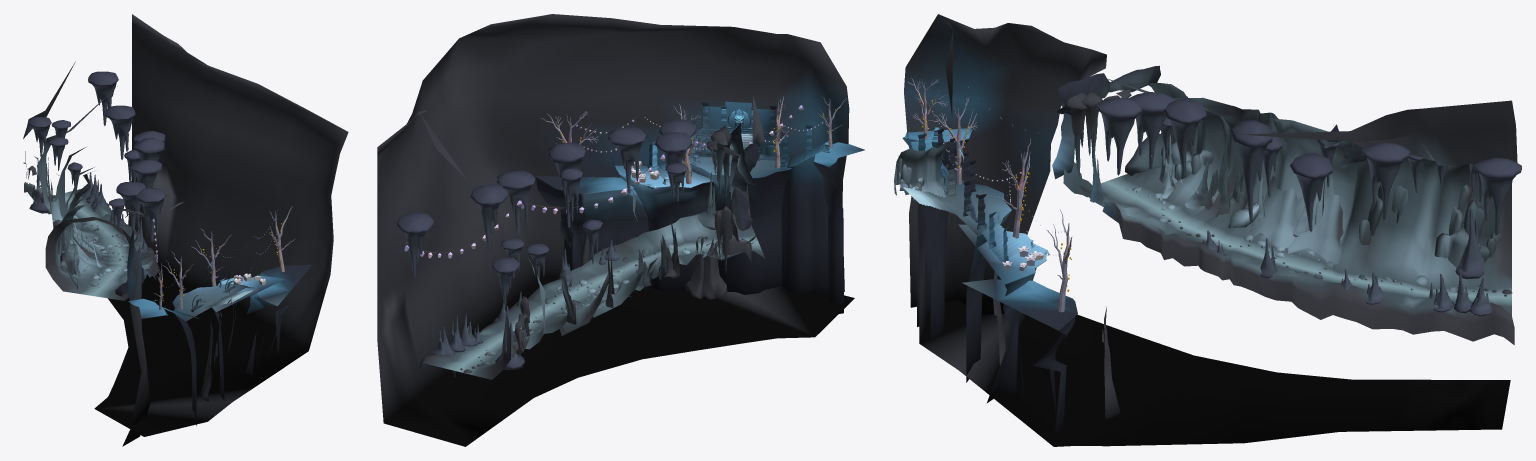
The model's file is Arctic_Tunnels_Curve_Right_45_A.glb.
3 renders of one model, left to right at view 1: azimuth 30°, elevation 25°; view 2: azimuth 150°, elevation 25°; view 3: azimuth 270°, elevation 25°, orthographic. The views are drawn at different scales.
Parts seen in each view (by area): view 1: Arctic_Tunnels_Curve_Right_45_A_Reflection, Arctic_Tunnels_Curve_Right_45_A, Arctic_Tunnels_Icicle_Shadow_A02 (9), Arctic_Tunnels_Icicle_Shadow_A02 (18), Arctic_Tunnels_Icicle_Shadow_A02 (19), Arctic_Tunnels_Icicle_Shadow_A02 (10), Arctic_Tunnels_Icicle_Shadow_A02 (11), Arctic_Tunnels_Icicle_Shadow_A02 (7), Arctic_Tunnels_Icicle_Shadow_A02 (13); view 2: Arctic_Tunnels_Curve_Right_45_A_Reflection, Arctic_Tunnels_Curve_Right_45_A, Arctic_Tunnels_Icicle_Shadow_A02 (11), Arctic_Tunnels_Icicle_Shadow_A02 (8), Arctic_Tunnels_Icicle_Shadow_A02 (9), Arctic_Tunnels_Icicle_Shadow_A02 (19), Arctic_Tunnels_Icicle_Shadow_A02 (7), Arctic_Tunnels_Icicle_Shadow_A02 (10), Arctic_Tunnels_Icicle_Shadow_A02 (13), Arctic_Tunnels_Icicle_Shadow_A02 (3), Arctic_Tunnels_Icicle_Shadow_A02 (18), Arctic_Tunnels_Icicle_Shadow_A07; view 3: Arctic_Tunnels_Curve_Right_45_A_Reflection, Arctic_Tunnels_Curve_Right_45_A, Arctic_Tunnels_Icicle_Shadow_A02 (7), Arctic_Tunnels_Icicle_Shadow_A02 (19), Arctic_Tunnels_Icicle_Shadow_A02 (9), Arctic_Tunnels_Icicle_Shadow_A02 (18), Arctic_Tunnels_Icicle_Shadow_A02 (8), Arctic_Tunnels_Icicle_Shadow_A02 (11), Arctic_Tunnels_Icicle_Shadow_A02 (10), Arctic_Tunnels_Icicle_Shadow_A07.
Part boxes in pixels (x1=…): Arctic_Tunnels_Curve_Right_45_A_Reflection: x1=23, y1=14, x2=348, y2=446; Arctic_Tunnels_Curve_Right_45_A: x1=63, y1=239, x2=311, y2=425; Arctic_Tunnels_Icicle_Shadow_A02 (9): x1=105, y1=105, x2=135, y2=159; Arctic_Tunnels_Icicle_Shadow_A02 (18): x1=135, y1=188, x2=165, y2=242; Arctic_Tunnels_Icicle_Shadow_A02 (19): x1=88, y1=71, x2=118, y2=125; Arctic_Tunnels_Icicle_Shadow_A02 (10): x1=116, y1=182, x2=145, y2=234; Arctic_Tunnels_Icicle_Shadow_A02 (11): x1=130, y1=159, x2=162, y2=188; Arctic_Tunnels_Icicle_Shadow_A02 (7): x1=134, y1=137, x2=164, y2=187; Arctic_Tunnels_Icicle_Shadow_A02 (13): x1=28, y1=117, x2=51, y2=156; Arctic_Tunnels_Curve_Right_45_A_Reflection: x1=377, y1=14, x2=854, y2=446; Arctic_Tunnels_Curve_Right_45_A: x1=534, y1=101, x2=864, y2=313; Arctic_Tunnels_Icicle_Shadow_A02 (11): x1=607, y1=127, x2=646, y2=192; Arctic_Tunnels_Icicle_Shadow_A02 (8): x1=496, y1=170, x2=535, y2=236; Arctic_Tunnels_Icicle_Shadow_A02 (9): x1=470, y1=184, x2=507, y2=250; Arctic_Tunnels_Icicle_Shadow_A02 (19): x1=396, y1=212, x2=433, y2=278; Arctic_Tunnels_Icicle_Shadow_A02 (7): x1=547, y1=142, x2=585, y2=227; Arctic_Tunnels_Icicle_Shadow_A02 (10): x1=654, y1=132, x2=691, y2=198; Arctic_Tunnels_Icicle_Shadow_A02 (13): x1=491, y1=257, x2=519, y2=307; Arctic_Tunnels_Icicle_Shadow_A02 (3): x1=559, y1=168, x2=582, y2=221; Arctic_Tunnels_Icicle_Shadow_A02 (18): x1=658, y1=119, x2=695, y2=161; Arctic_Tunnels_Icicle_Shadow_A07: x1=495, y1=307, x2=524, y2=369; Arctic_Tunnels_Curve_Right_45_A_Reflection: x1=894, y1=14, x2=1517, y2=446; Arctic_Tunnels_Curve_Right_45_A: x1=900, y1=65, x2=1366, y2=433; Arctic_Tunnels_Icicle_Shadow_A02 (7): x1=1230, y1=120, x2=1272, y2=223; Arctic_Tunnels_Icicle_Shadow_A02 (19): x1=1473, y1=158, x2=1521, y2=235; Arctic_Tunnels_Icicle_Shadow_A02 (9): x1=1361, y1=142, x2=1409, y2=220; Arctic_Tunnels_Icicle_Shadow_A02 (18): x1=1095, y1=97, x2=1142, y2=175; Arctic_Tunnels_Icicle_Shadow_A02 (8): x1=1290, y1=152, x2=1332, y2=231; Arctic_Tunnels_Icicle_Shadow_A02 (11): x1=1163, y1=98, x2=1206, y2=177; Arctic_Tunnels_Icicle_Shadow_A02 (10): x1=1129, y1=92, x2=1175, y2=169; Arctic_Tunnels_Icicle_Shadow_A07: x1=1455, y1=208, x2=1484, y2=279.
Size of the model in its own units: 28.27 by 24.12 by 38.44.
